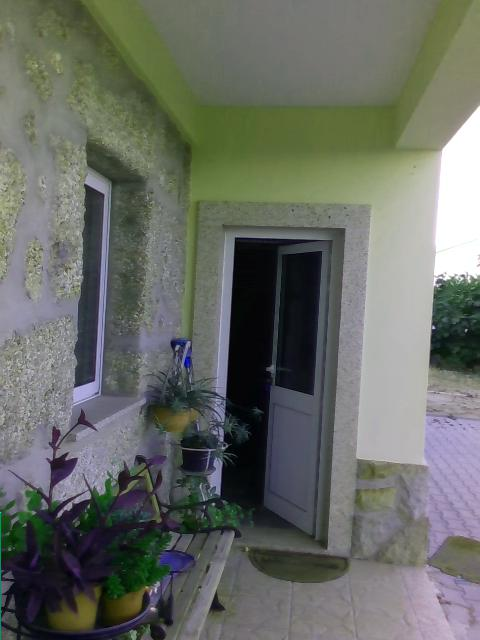semi_door: (209, 226, 343, 558)
